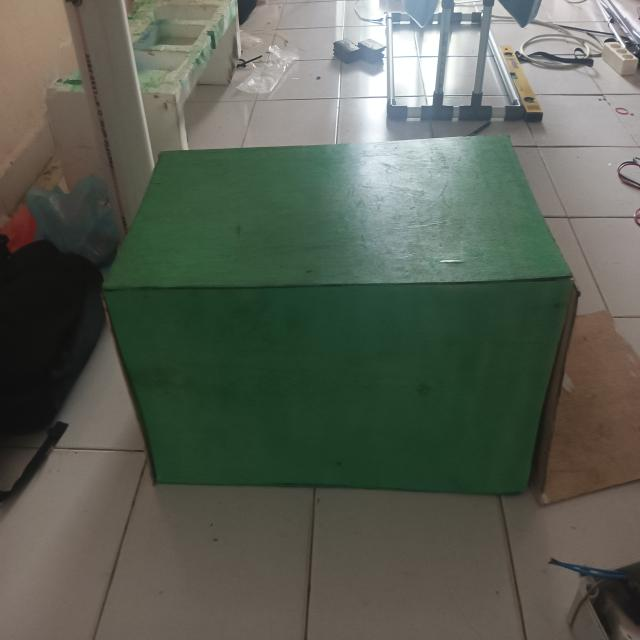green_box: (90, 141, 576, 488)
